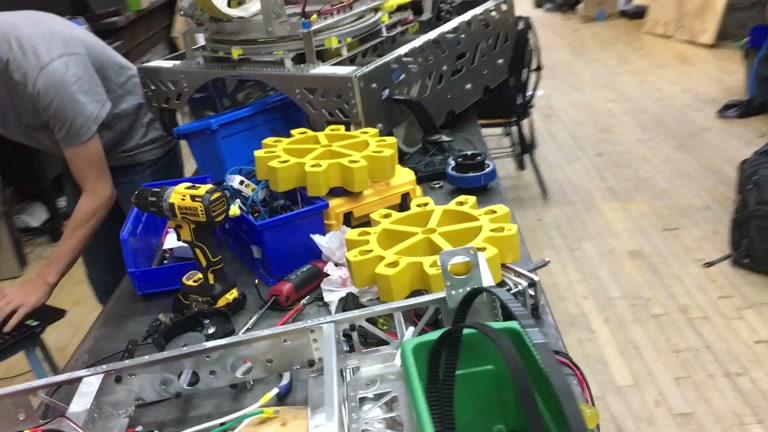gear: (344, 193, 520, 302), (253, 124, 397, 196)
